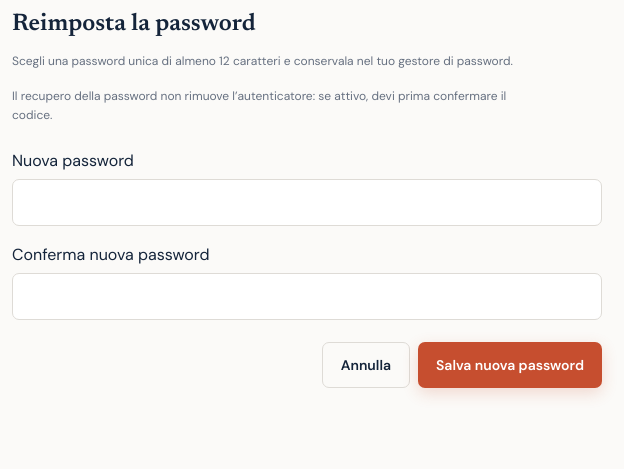
Test: password recovery › validates length and confirmation without contacting the server
Type "breve" into the password field labelled "Nuova password".
click(307, 202); type("breve")  # box x1=12 y1=179 x2=602 y2=226
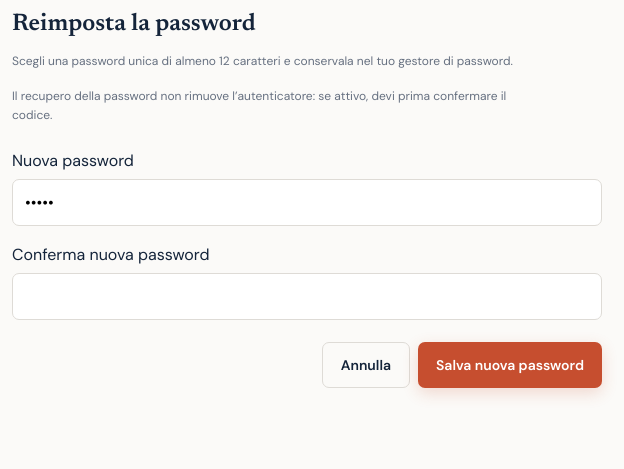
Type "breve" into the password field labelled "Conferma nuova password".
click(307, 296); type("breve")  # box x1=12 y1=273 x2=602 y2=320
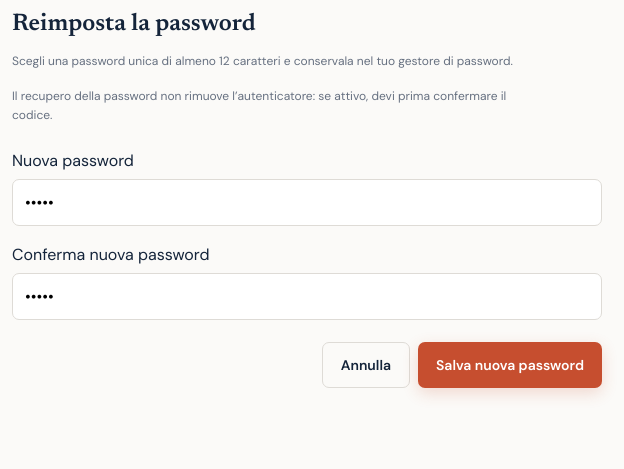
Submit the form "Salva nuova password", box x1=12 y1=150 x2=602 y2=388
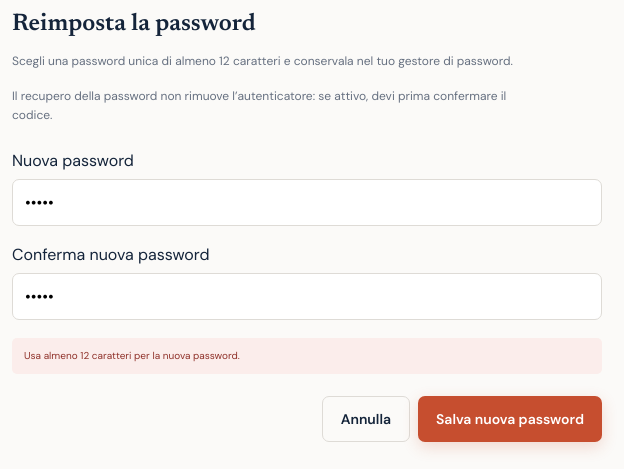
Expected: the message shows "12 caratteri", x1=24 y1=349 x2=240 y2=362
Type "password-di-prova-unica" into the password field labelled "Nuova password".
click(307, 202); type("password-di-prova-unica")  # box x1=12 y1=179 x2=602 y2=226
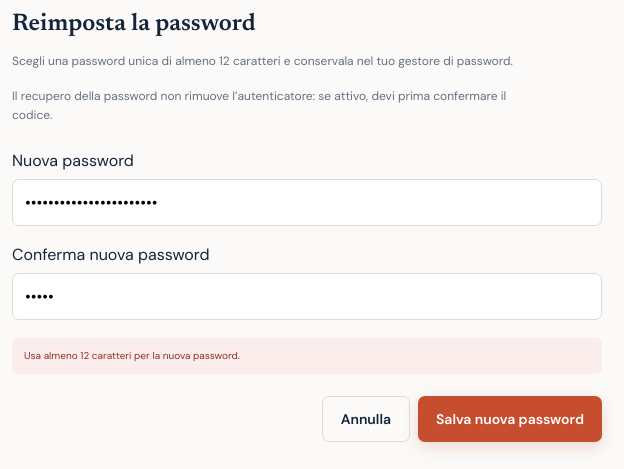
Type "password-differente" into the password field labelled "Conferma nuova password".
click(307, 296); type("password-differente")  # box x1=12 y1=273 x2=602 y2=320
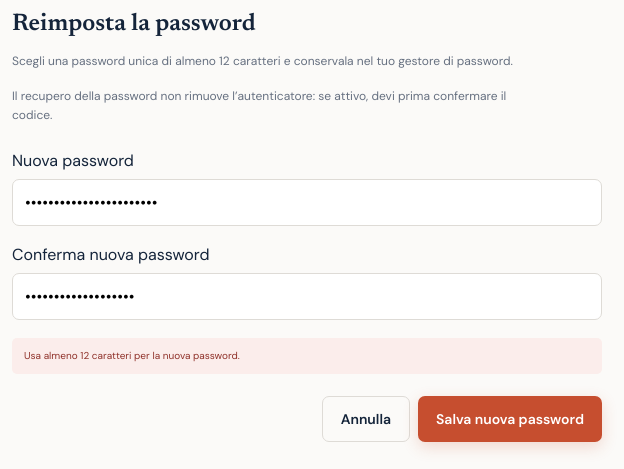
Submit the form named "Salva nuova password", box x1=12 y1=150 x2=602 y2=442
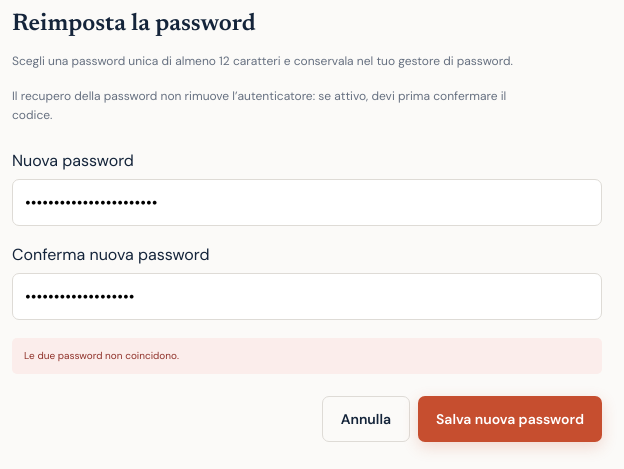
Expected: the message shows "non coincidono", x1=24 y1=349 x2=179 y2=362
